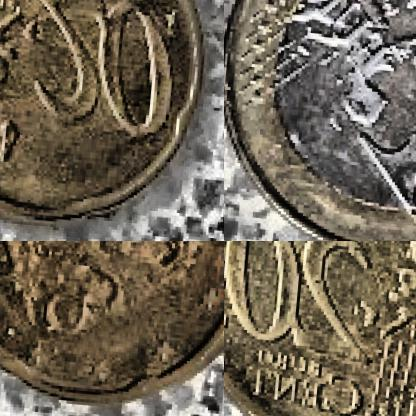coin: (0, 0, 217, 236), (224, 0, 415, 240), (0, 241, 223, 415), (224, 241, 415, 415)
